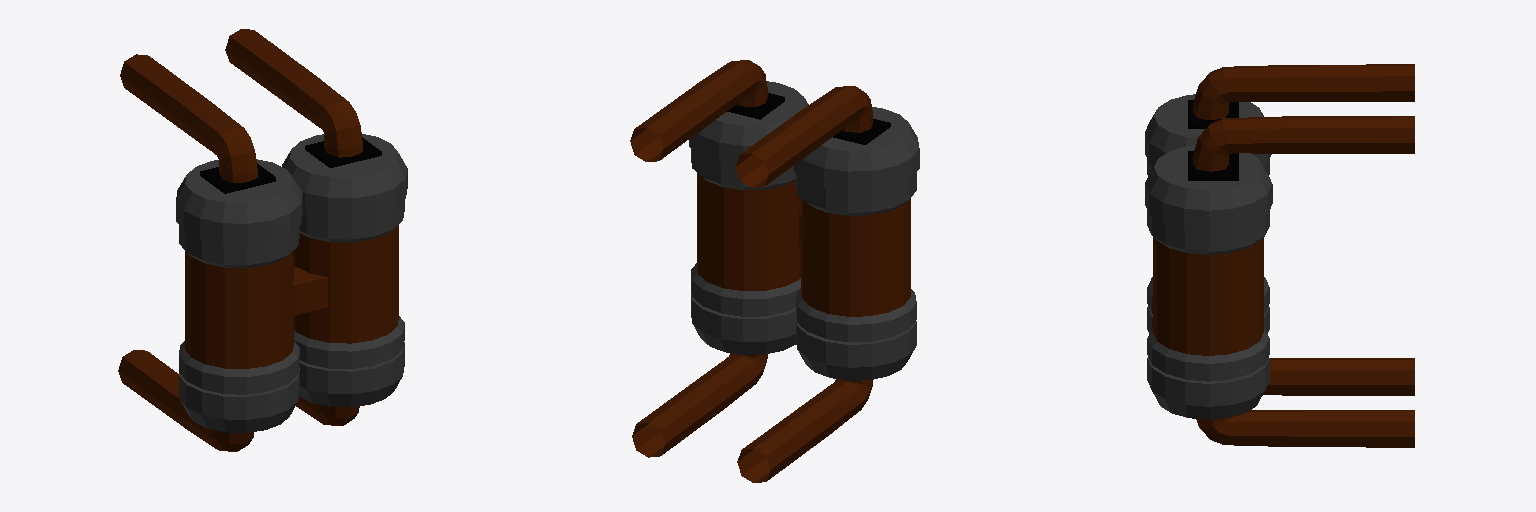
The model's file is Tank.obj.
3 views of the same model, side by side, from view 1: azimuth 30°, elevation 25°; view 2: azimuth 150°, elevation 25°; view 3: azimuth 270°, elevation 25° (orthographic).
Visible parts, largest first — view 1: Tank_Cylinder.006; view 2: Tank_Cylinder.006; view 3: Tank_Cylinder.006.
Boxes of the visible parts, x1=… form: Tank_Cylinder.006: x1=118, y1=29, x2=407, y2=451; Tank_Cylinder.006: x1=630, y1=60, x2=919, y2=482; Tank_Cylinder.006: x1=1145, y1=64, x2=1414, y2=447.
Bounding box in the file's own units: 0.569 × 0.831 × 0.619.